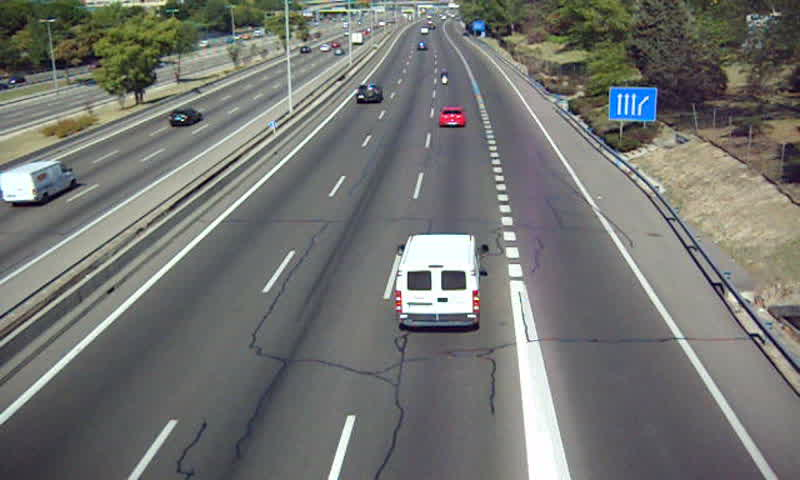car: (355, 83, 382, 105), (439, 108, 465, 128)
motorcycle: (439, 70, 450, 87)
van: (396, 234, 480, 328)
